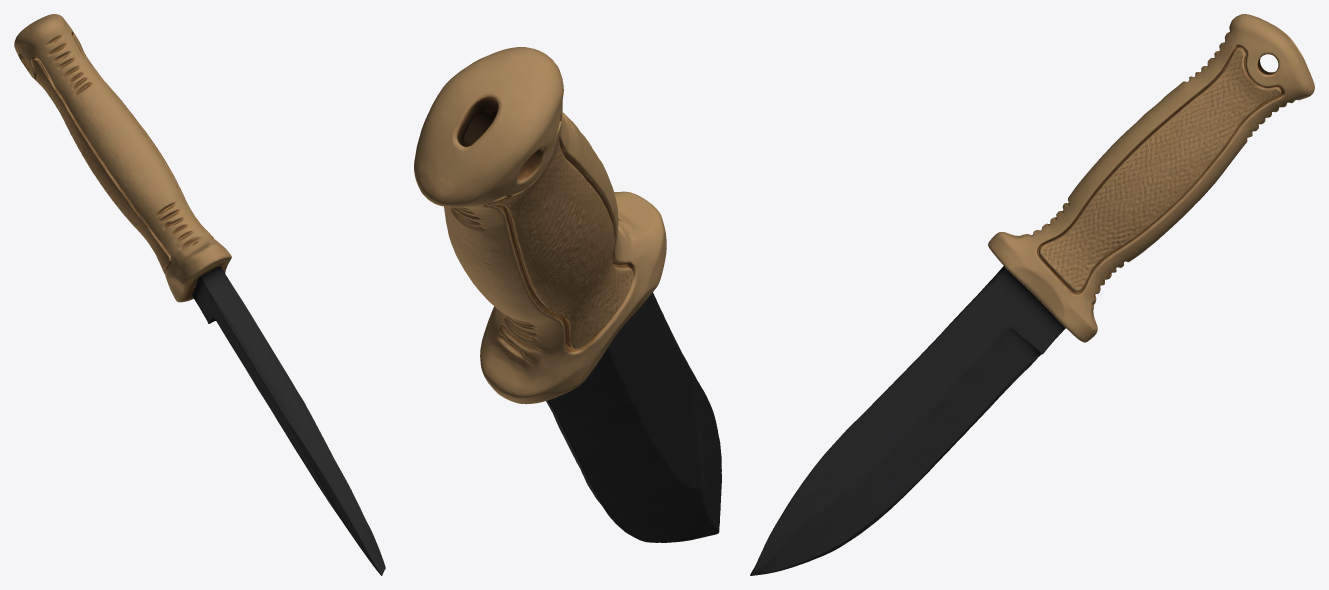
File: prop_knife-BQS3XXQP.glb
3 renders of one model, left to right at view 1: azimuth 30°, elevation 25°; view 2: azimuth 150°, elevation 25°; view 3: azimuth 270°, elevation 25°, orthographic. The views are drawn at different scales.
Bounding box in the file's own units: 0.3411 × 0.964 × 1.
Materials: 1 (1 with a texture image).
